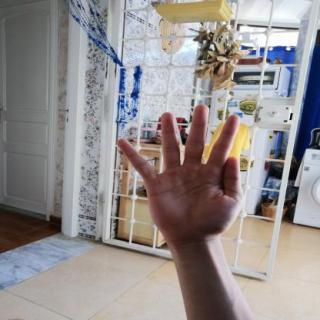SHEEN: (108, 96, 260, 249)
